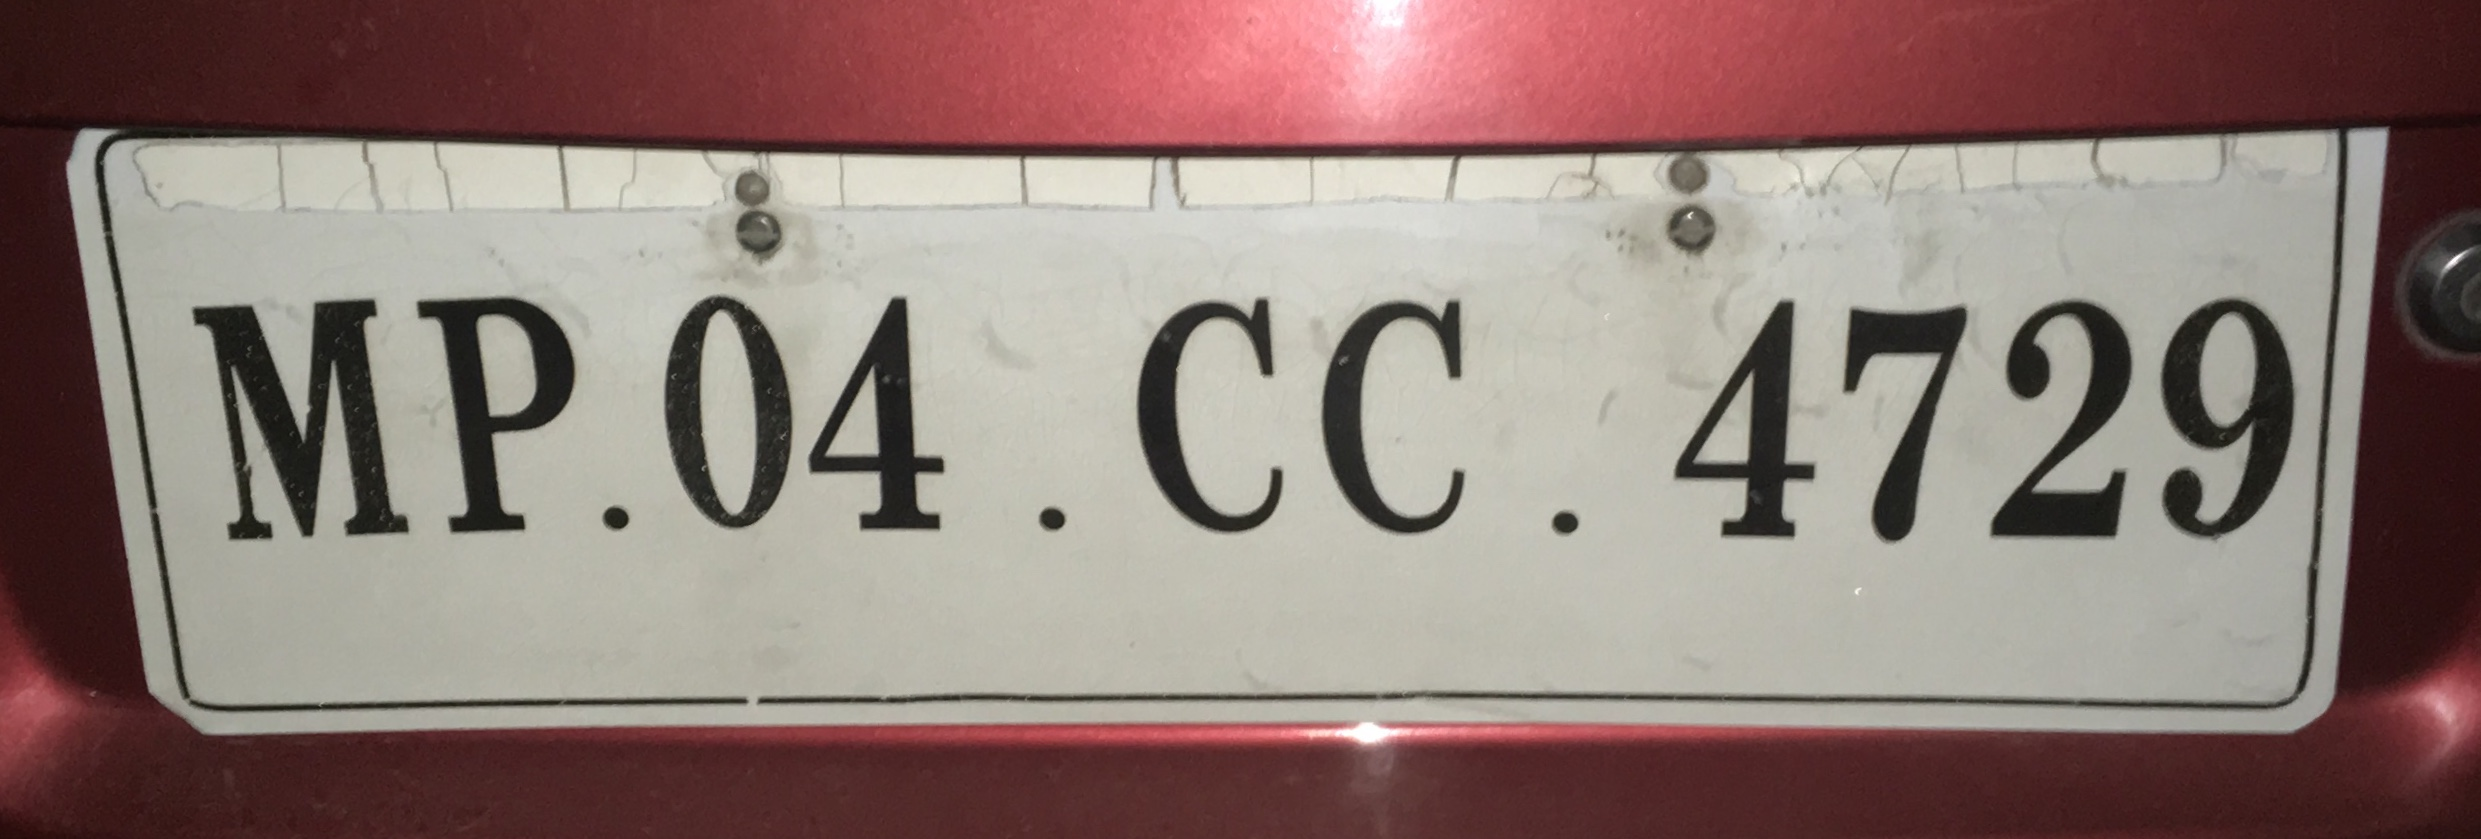numberplate: (68, 119, 2397, 737)
